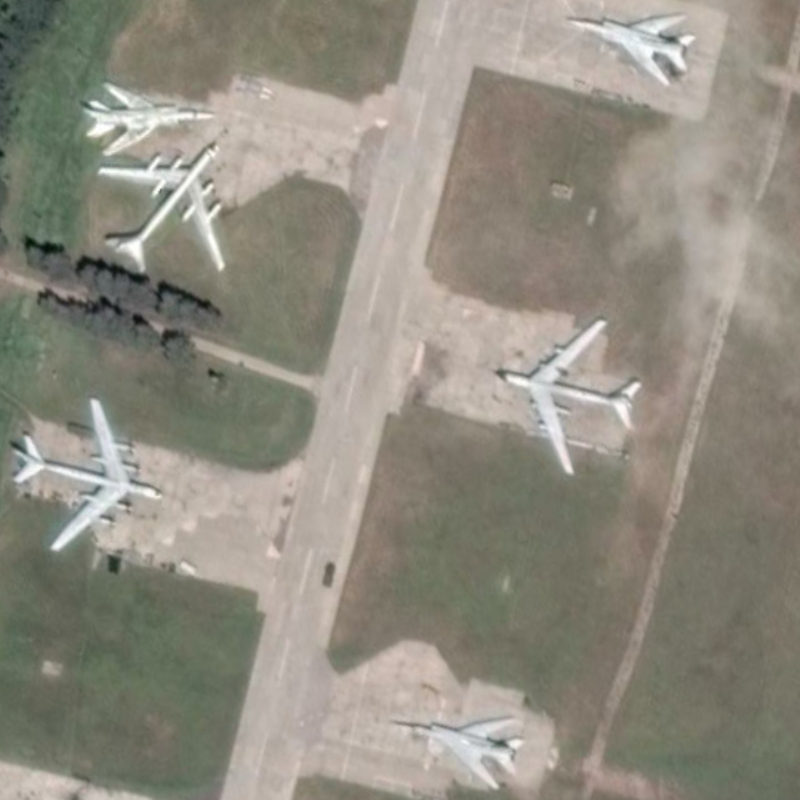A12: (84, 78, 218, 159), (397, 713, 527, 793), (563, 11, 698, 88)
A17: (9, 393, 167, 554), (498, 316, 644, 477), (94, 140, 229, 275)
